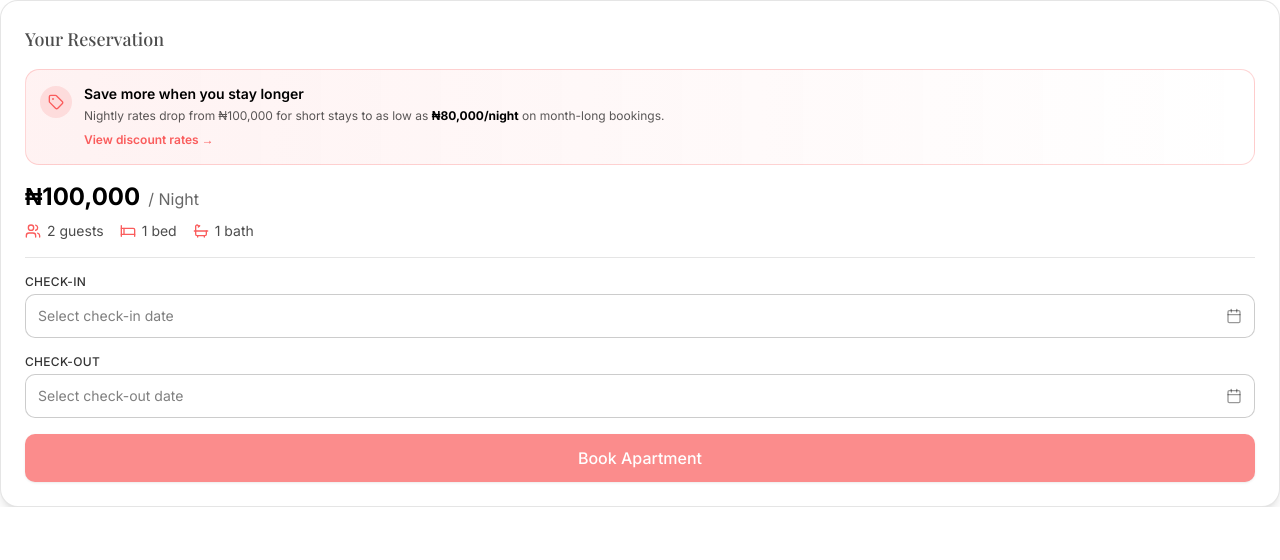
Test: YourReservationCard › shows validation when checkout is opened before check-in
The image size is (1280, 560).
Click the button "Select check-out date". click: (111, 395)
box: [25, 374, 1255, 418]
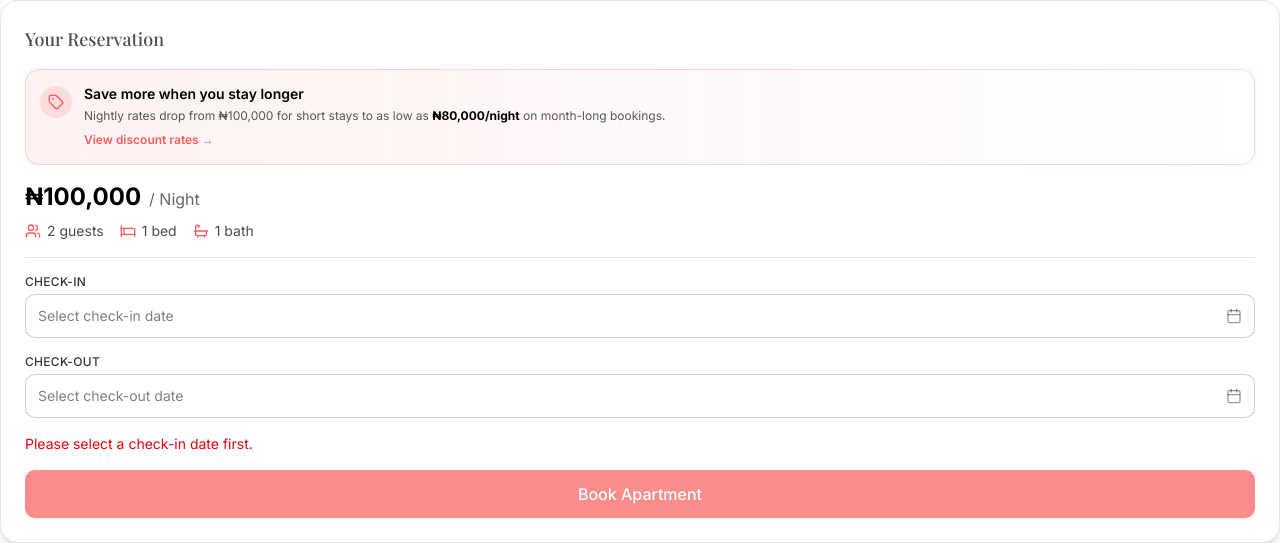
Expected: the message shows "select a check-in date first", [25, 434, 253, 452]
